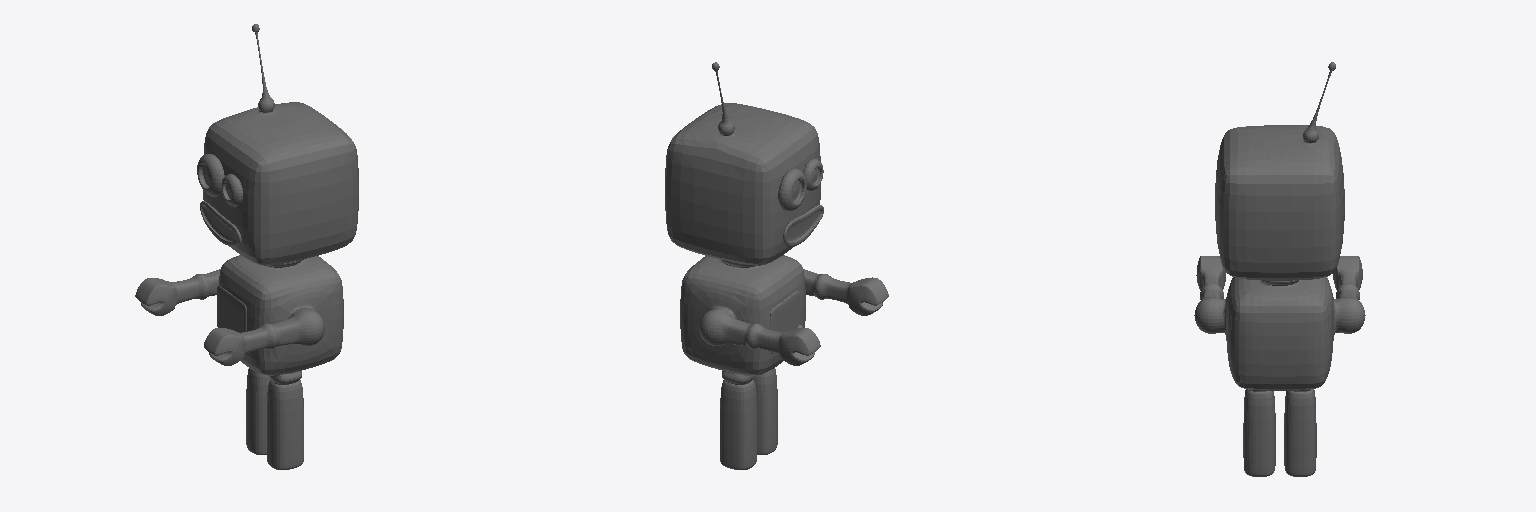
The model's file is soko.obj.
3 renders of one model, left to right at view 1: azimuth 30°, elevation 25°; view 2: azimuth 150°, elevation 25°; view 3: azimuth 270°, elevation 25°, orthographic.
Visible parts, largest first — view 1: Box003; view 2: Box003; view 3: Box003.
Boxes of the visible parts, x1,y1,x2,y2 form: Box003: [135, 24, 358, 469]; Box003: [665, 62, 888, 469]; Box003: [1194, 62, 1365, 476].
Size of the model in its own units: 0.7326 by 1.76 by 0.66.